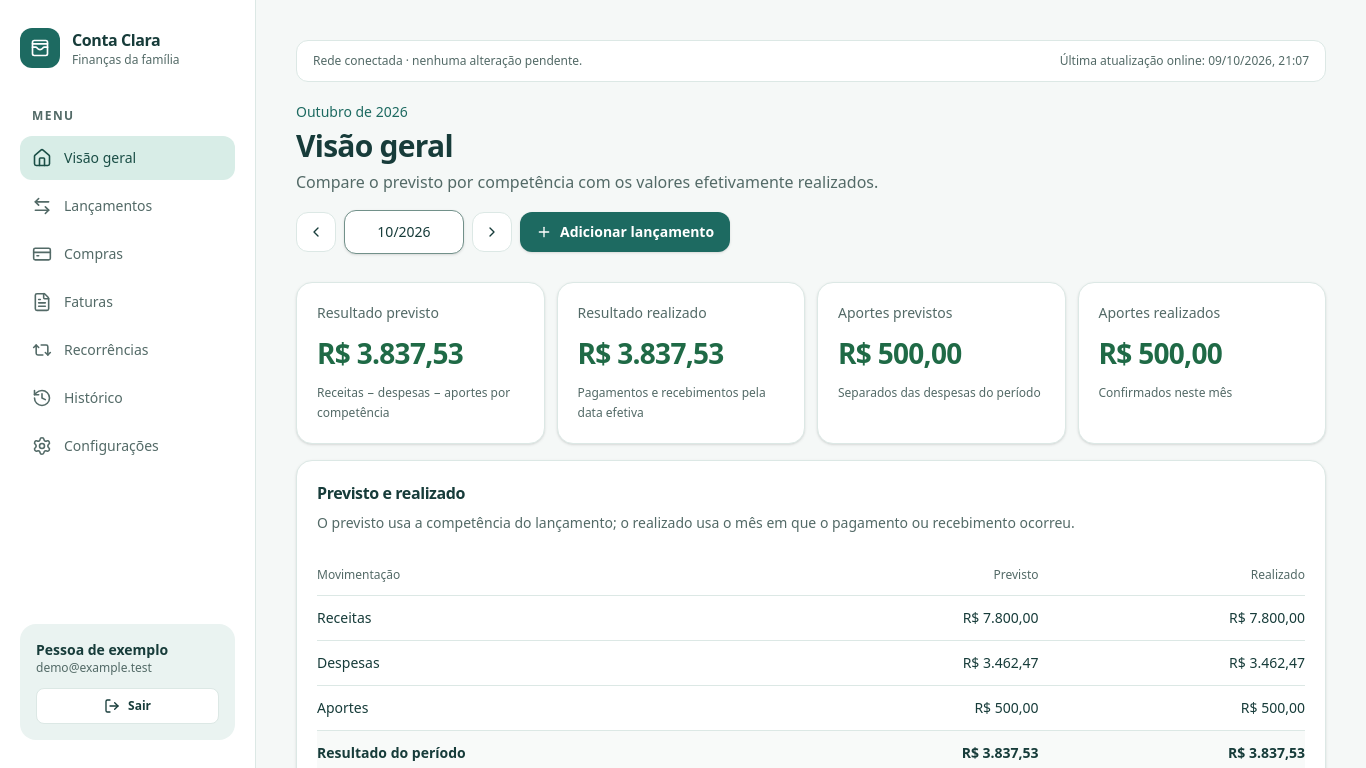
Test case: application navigation and preview screens › opens the read-only shared history from the main navigation
This screenshot has width=1366, height=768.
Expected: the heading "Visão geral" is shown, [296,125,453,166]
Click the link "Histórico".
click(77, 398)  # box [32,388,123,408]
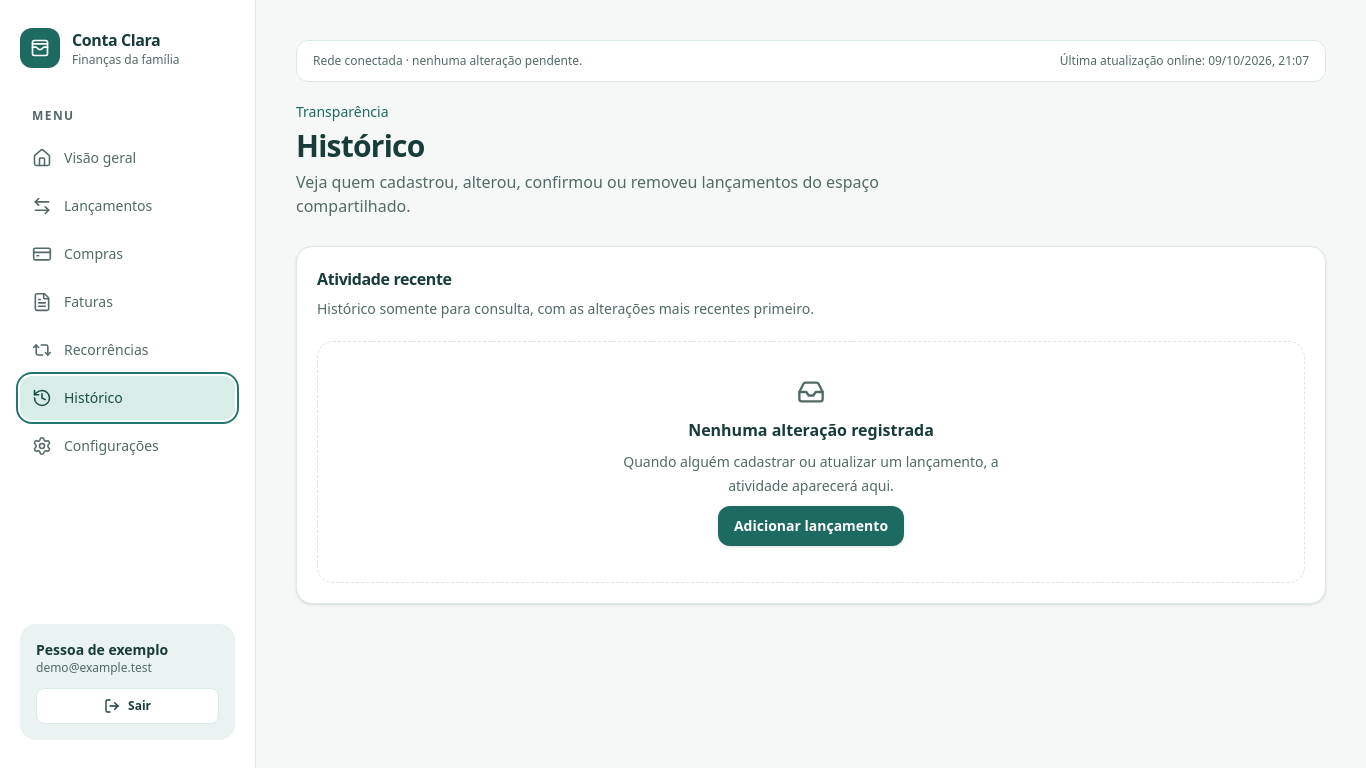
Expected: the heading "Histórico" is shown, [296,125,425,166]
Expected: the message "Nenhuma alteração registrada" is shown, [317,341,1305,583]
